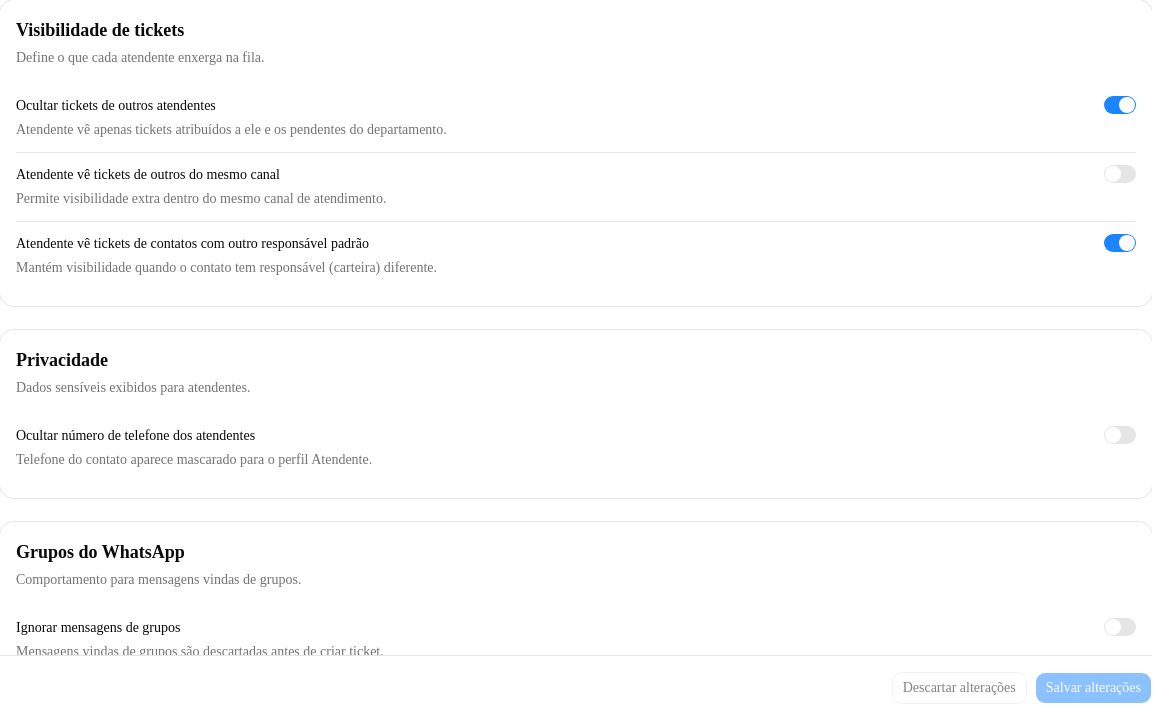
Test: PreferencesFormView › Descartar alterações reseta para defaultValues e desabilita botões
The width and height of the screenshot is (1164, 720).
Click the switch named "Ocultar tickets de outros atendentes" in the row of "Ocultar tickets de outros atendentes" at (1120, 105), box [1104,96,1136,114]
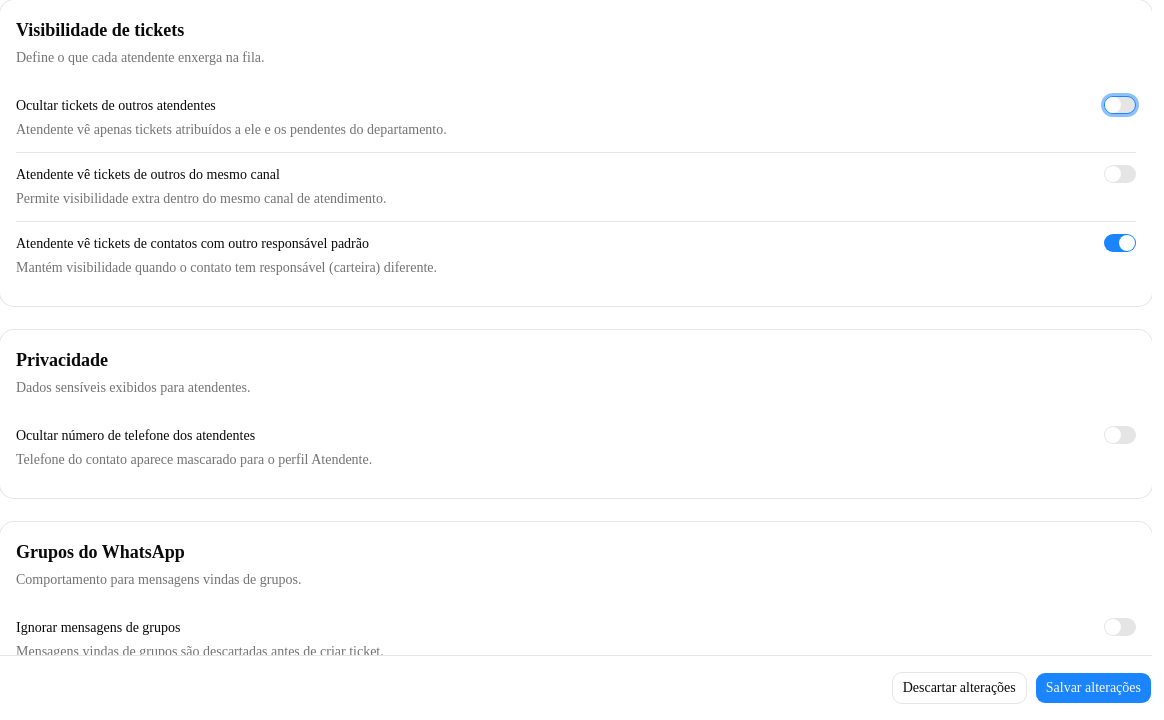
Check: the switch named "Ocultar tickets de outros atendentes" in the row of "Ocultar tickets de outros atendentes" is not checked, box [1104,96,1136,114]
Click the button "Descartar alterações" at (959, 688), box [892,672,1027,704]
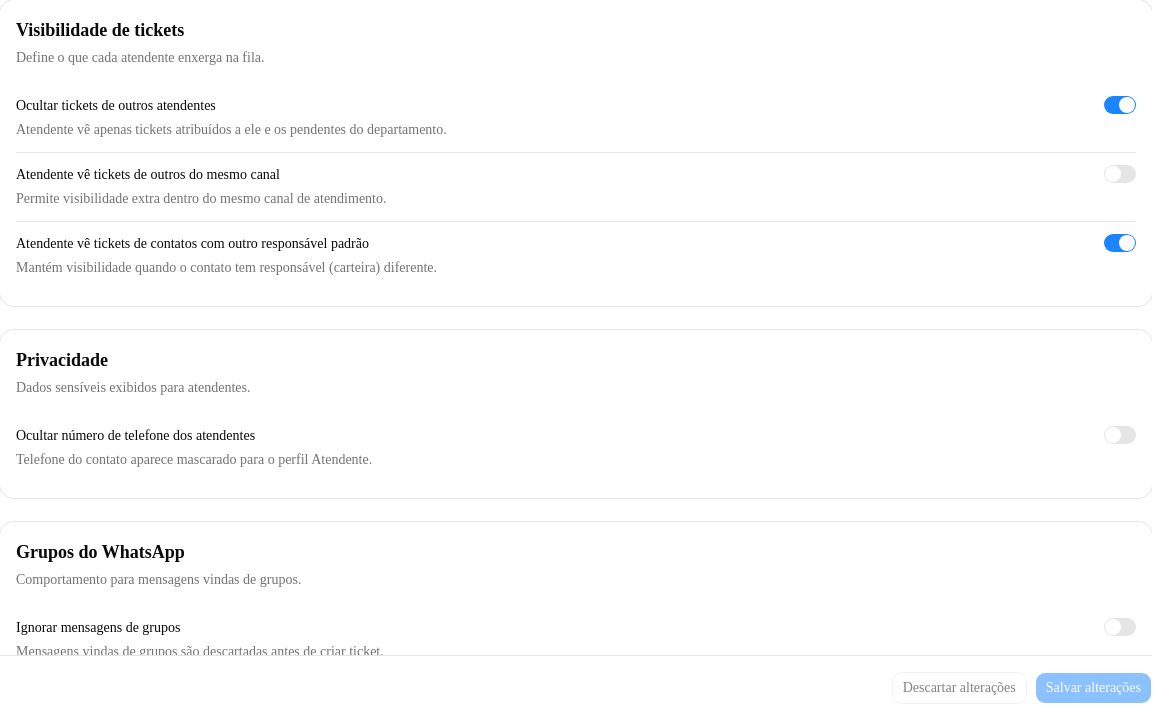
Check: the switch named "Ocultar tickets de outros atendentes" in the row of "Ocultar tickets de outros atendentes" is checked, box [1104,96,1136,114]
Check: the button "Salvar alterações" is disabled, box [1035,672,1152,704]
